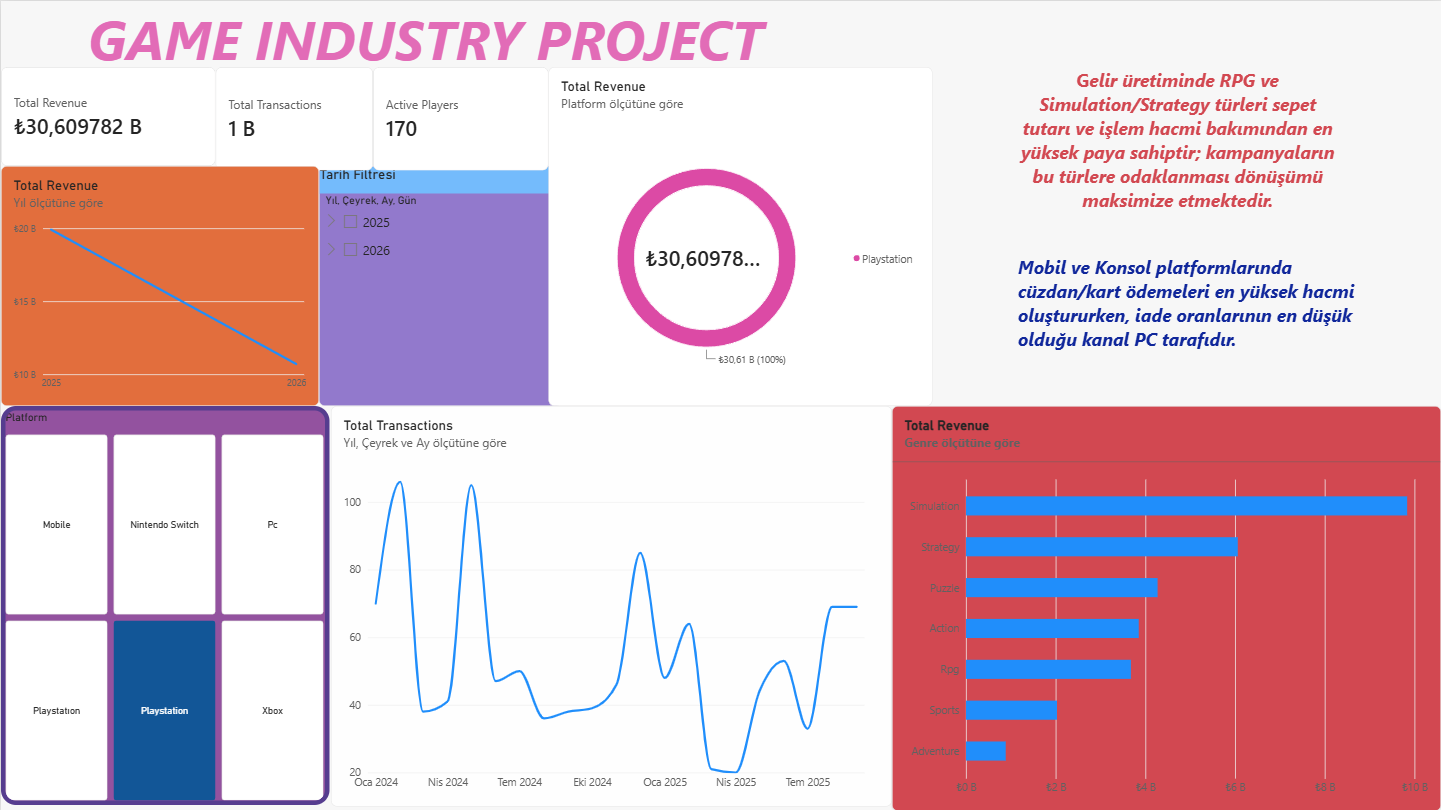

The dashboard page shown, as its layout file describes it:
{"tool":"powerbi","page":{"name":"1. sayfa","canvas":[1920,1080],"ordinal":0},"visuals":[{"type":"advancedSlicerVisual","fields":{"Values":["Purchases.Platform"]},"box":[0,540,438,532],"z":0},{"type":"slicer","title":"Tarih Filtresi","fields":{"Values":["Purchases.PurchaseDate.Varyasyon.Tarih Hiyerarşisi.Yıl","Purchases.PurchaseDate.Varyasyon.Tarih Hiyerarşisi.Çeyrek","Purchases.PurchaseDate.Varyasyon.Tarih Hiyerarşisi.Ay","Purchases.PurchaseDate.Varyasyon.Tarih Hiyerarşisi.Gün"]},"box":[424,220,324,320],"z":1},{"type":"cardVisual","fields":{"Data":["Games.Total Revenue"]},"box":[0,88,286,132],"z":2},{"type":"lineChart","fields":{"Category":["Players.JoinDate.Varyasyon.Tarih Hiyerarşisi.Yıl","Players.JoinDate.Varyasyon.Tarih Hiyerarşisi.Çeyrek","Players.JoinDate.Varyasyon.Tarih Hiyerarşisi.Ay"],"Y":["Games.Total Transactions"]},"box":[440,540,748,534],"z":3},{"type":"cardVisual","fields":{"Data":["Games.Total Transactions"]},"box":[286,88,210,138],"z":4},{"type":"cardVisual","fields":{"Data":["Games.Active Players"]},"box":[496,88,234,138],"z":5},{"type":"lineChart","fields":{"Category":["Purchases.PurchaseDate.Varyasyon.Tarih Hiyerarşisi.Yıl","Purchases.PurchaseDate.Varyasyon.Tarih Hiyerarşisi.Çeyrek","Purchases.PurchaseDate.Varyasyon.Tarih Hiyerarşisi.Ay","Purchases.PurchaseDate.Varyasyon.Tarih Hiyerarşisi.Gün"],"Y":["Games.Total Revenue"]},"box":[0,220,424,320],"z":6},{"type":"clusteredBarChart","fields":{"Category":["Games.Genre"],"Y":["Games.Total Revenue"]},"box":[1188,540,732,540],"z":7},{"type":"donutChart","fields":{"Category":["Purchases.Platform"],"Y":["Games.Total Revenue"]},"box":[730,88,512,452],"z":8},{"type":"textbox","box":[1356,88,426,308],"z":9},{"type":"textbox","box":[1356,338,474.3,260],"z":10},{"type":"textbox","box":[116,0,1040,106],"z":11}]}

Visuals, with their boxes in screenshot pixels (x1, y1, x2, y2), scaled from the page's 1920x1080 canvas onto the 1441x810 screenshot:
advancedSlicerVisual - Purchases.Platform: pyautogui.locateOnScreen(0, 405, 329, 804)
"Tarih Filtresi" slicer: pyautogui.locateOnScreen(318, 165, 561, 405)
cardVisual - Games.Total Revenue: pyautogui.locateOnScreen(0, 66, 215, 165)
lineChart - Players.JoinDate.Varyasyon.Tarih Hiyerarşisi.Yıl x Players.JoinDate.Varyasyon.Tarih Hiyerarşisi.Çeyrek: pyautogui.locateOnScreen(330, 405, 892, 806)
cardVisual - Games.Total Transactions: pyautogui.locateOnScreen(215, 66, 372, 170)
cardVisual - Games.Active Players: pyautogui.locateOnScreen(372, 66, 548, 170)
lineChart - Purchases.PurchaseDate.Varyasyon.Tarih Hiyerarşisi.Yıl x Purchases.PurchaseDate.Varyasyon.Tarih Hiyerarşisi.Çeyrek: pyautogui.locateOnScreen(0, 165, 318, 405)
clusteredBarChart - Games.Genre x Games.Total Revenue: pyautogui.locateOnScreen(892, 405, 1440, 809)
donutChart - Purchases.Platform x Games.Total Revenue: pyautogui.locateOnScreen(548, 66, 932, 405)
textbox: pyautogui.locateOnScreen(1018, 66, 1337, 297)
textbox: pyautogui.locateOnScreen(1018, 254, 1374, 448)
textbox: pyautogui.locateOnScreen(87, 0, 868, 80)
